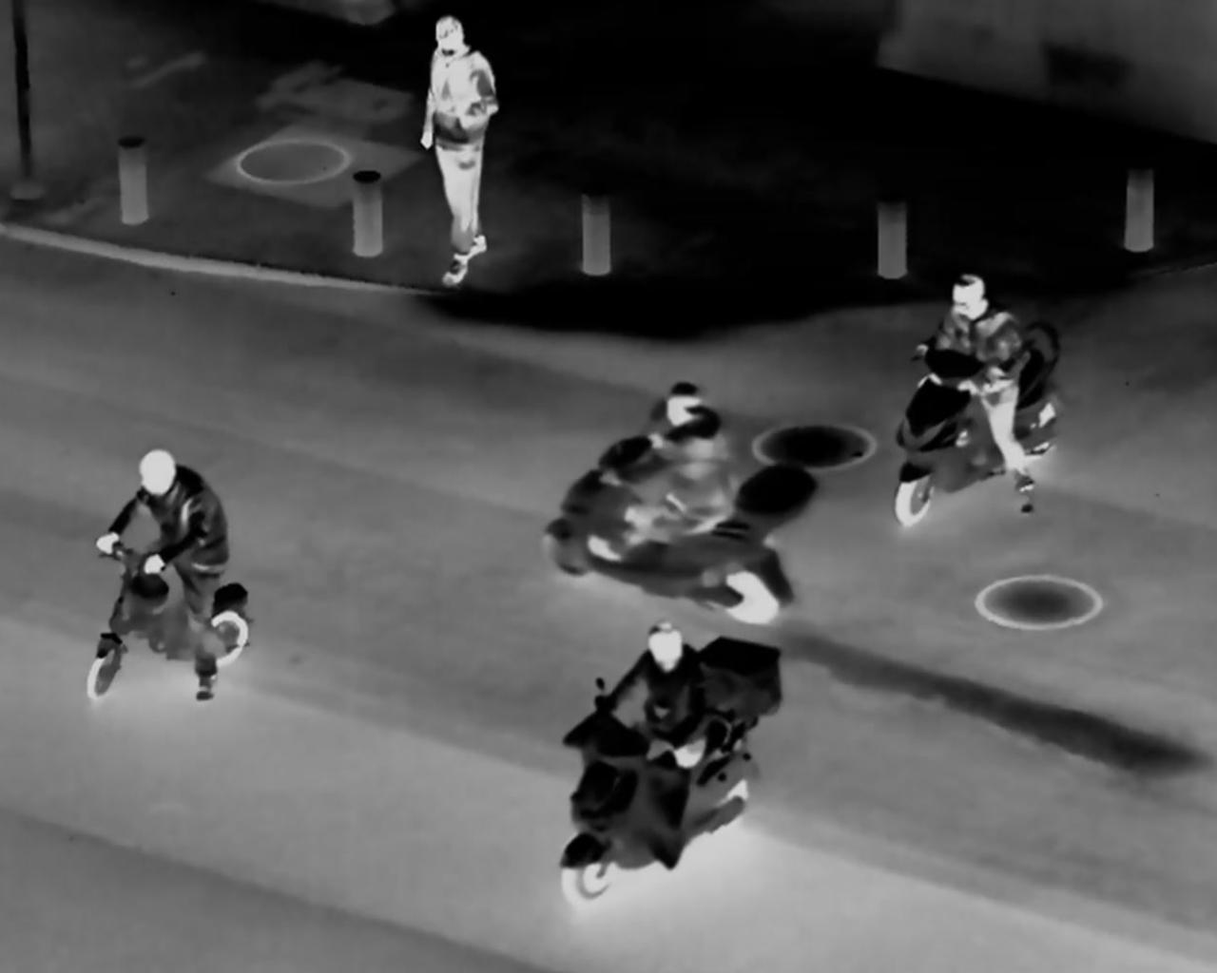person: (93, 436, 230, 706), (590, 379, 738, 574), (926, 259, 1037, 515), (411, 8, 507, 296), (601, 611, 704, 780)
